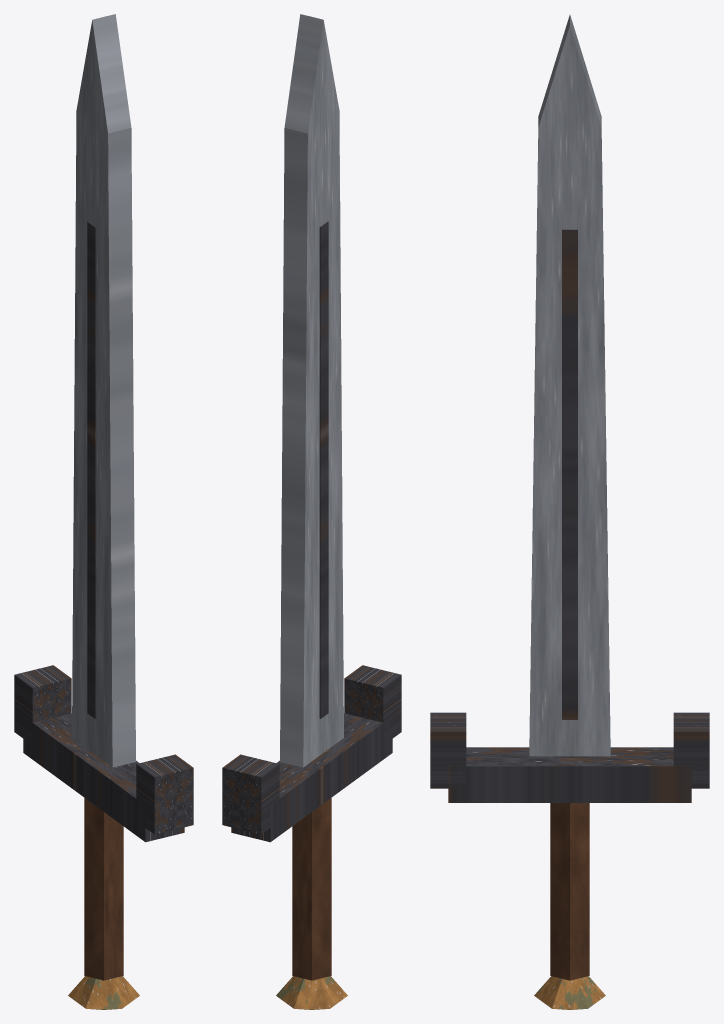
Rendered from rival_knight_longsword.obj.
3 views of the same model, side by side, from view 1: azimuth 30°, elevation 25°; view 2: azimuth 150°, elevation 25°; view 3: azimuth 270°, elevation 25° (orthographic).
Visible parts, largest first — view 1: rival_knight_longsword; view 2: rival_knight_longsword; view 3: rival_knight_longsword.
Part boxes in pixels (x1,y1,x2,y2): rival_knight_longsword: (14,14,193,1009); rival_knight_longsword: (222,14,401,1009); rival_knight_longsword: (430,15,709,1009).
Size of the model in its own units: 0.0866 by 1.52 by 0.3876.
